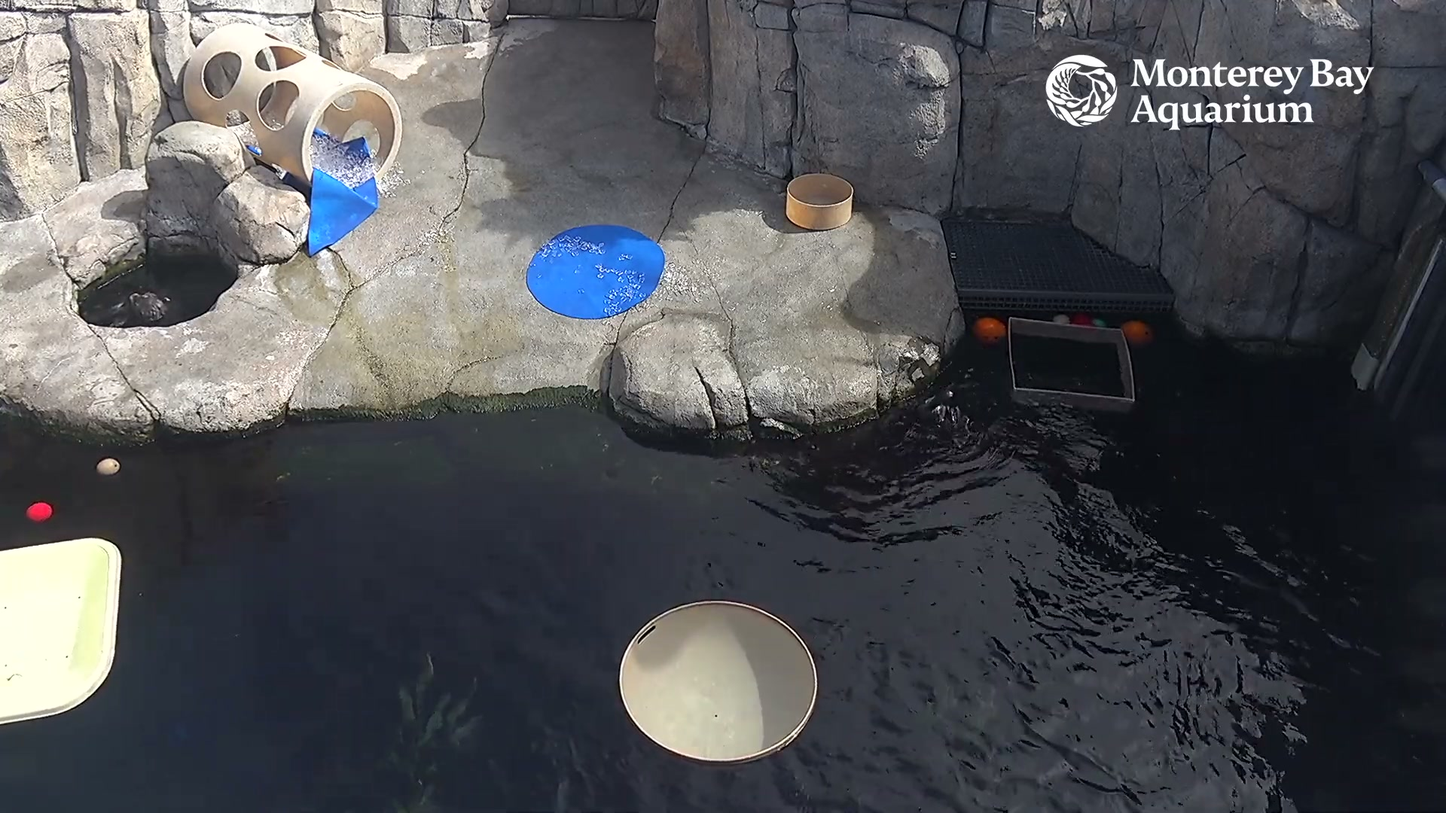Southern Sea Otter: (109, 289, 186, 335)
